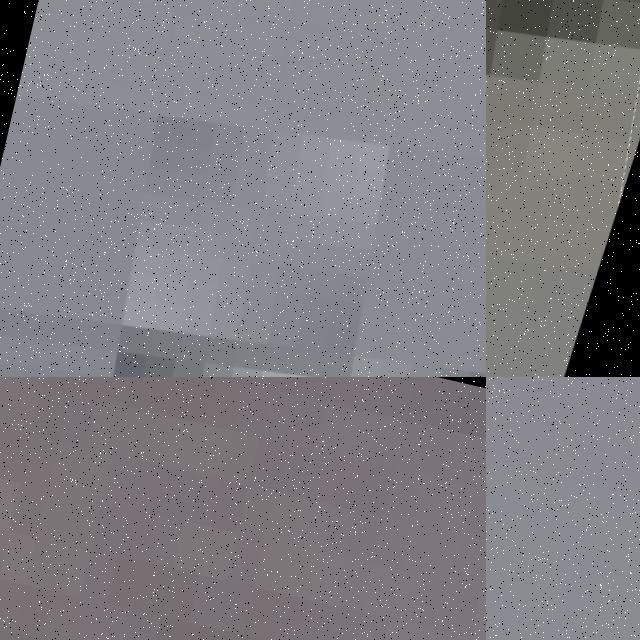0: (0, 0, 486, 377)
drone: (486, 0, 640, 377)
